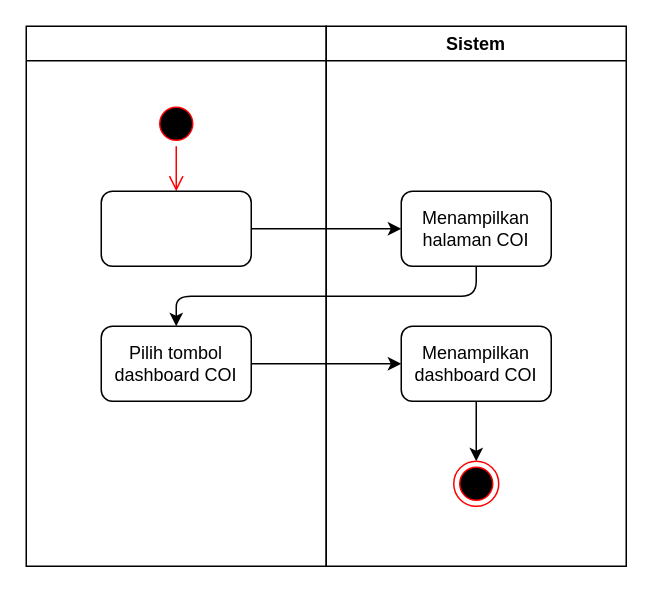
The diagram is 653 pixels wide and 593 high, and some of its shapes have lost their labels. The shapes that lost their labels are listed below. From the top down, each one's box as (x1, y1, x2, y2) in pixels, then its label:
(100, 190, 251, 266): Membuka halaman COI
(25, 25, 326, 566): User
